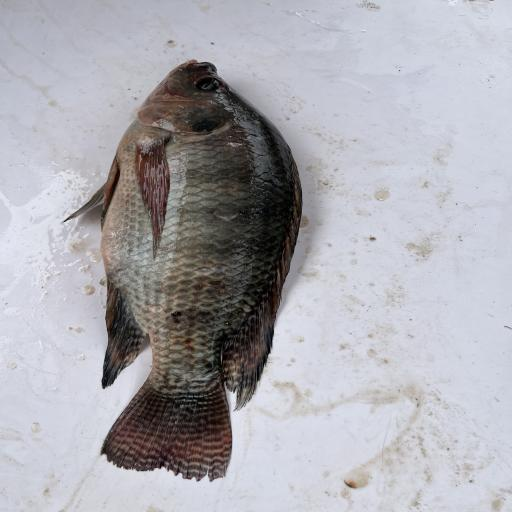Tilapia: (62, 59, 304, 482)
